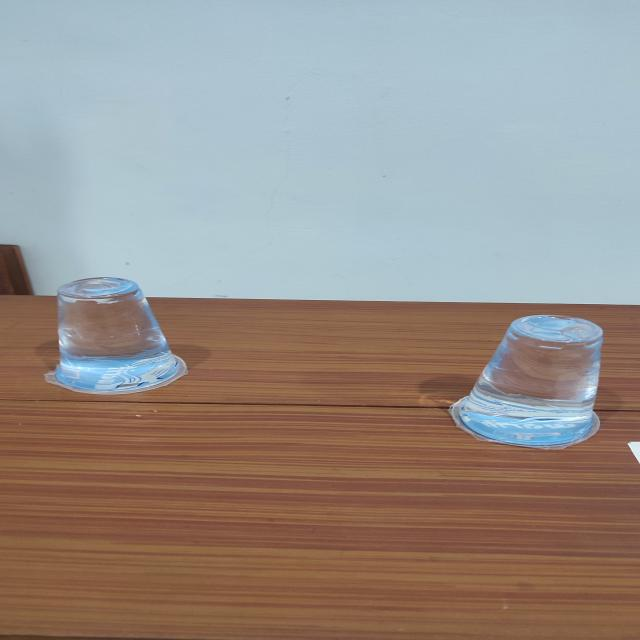air gelas: (440, 305, 611, 456), (38, 276, 204, 402)
